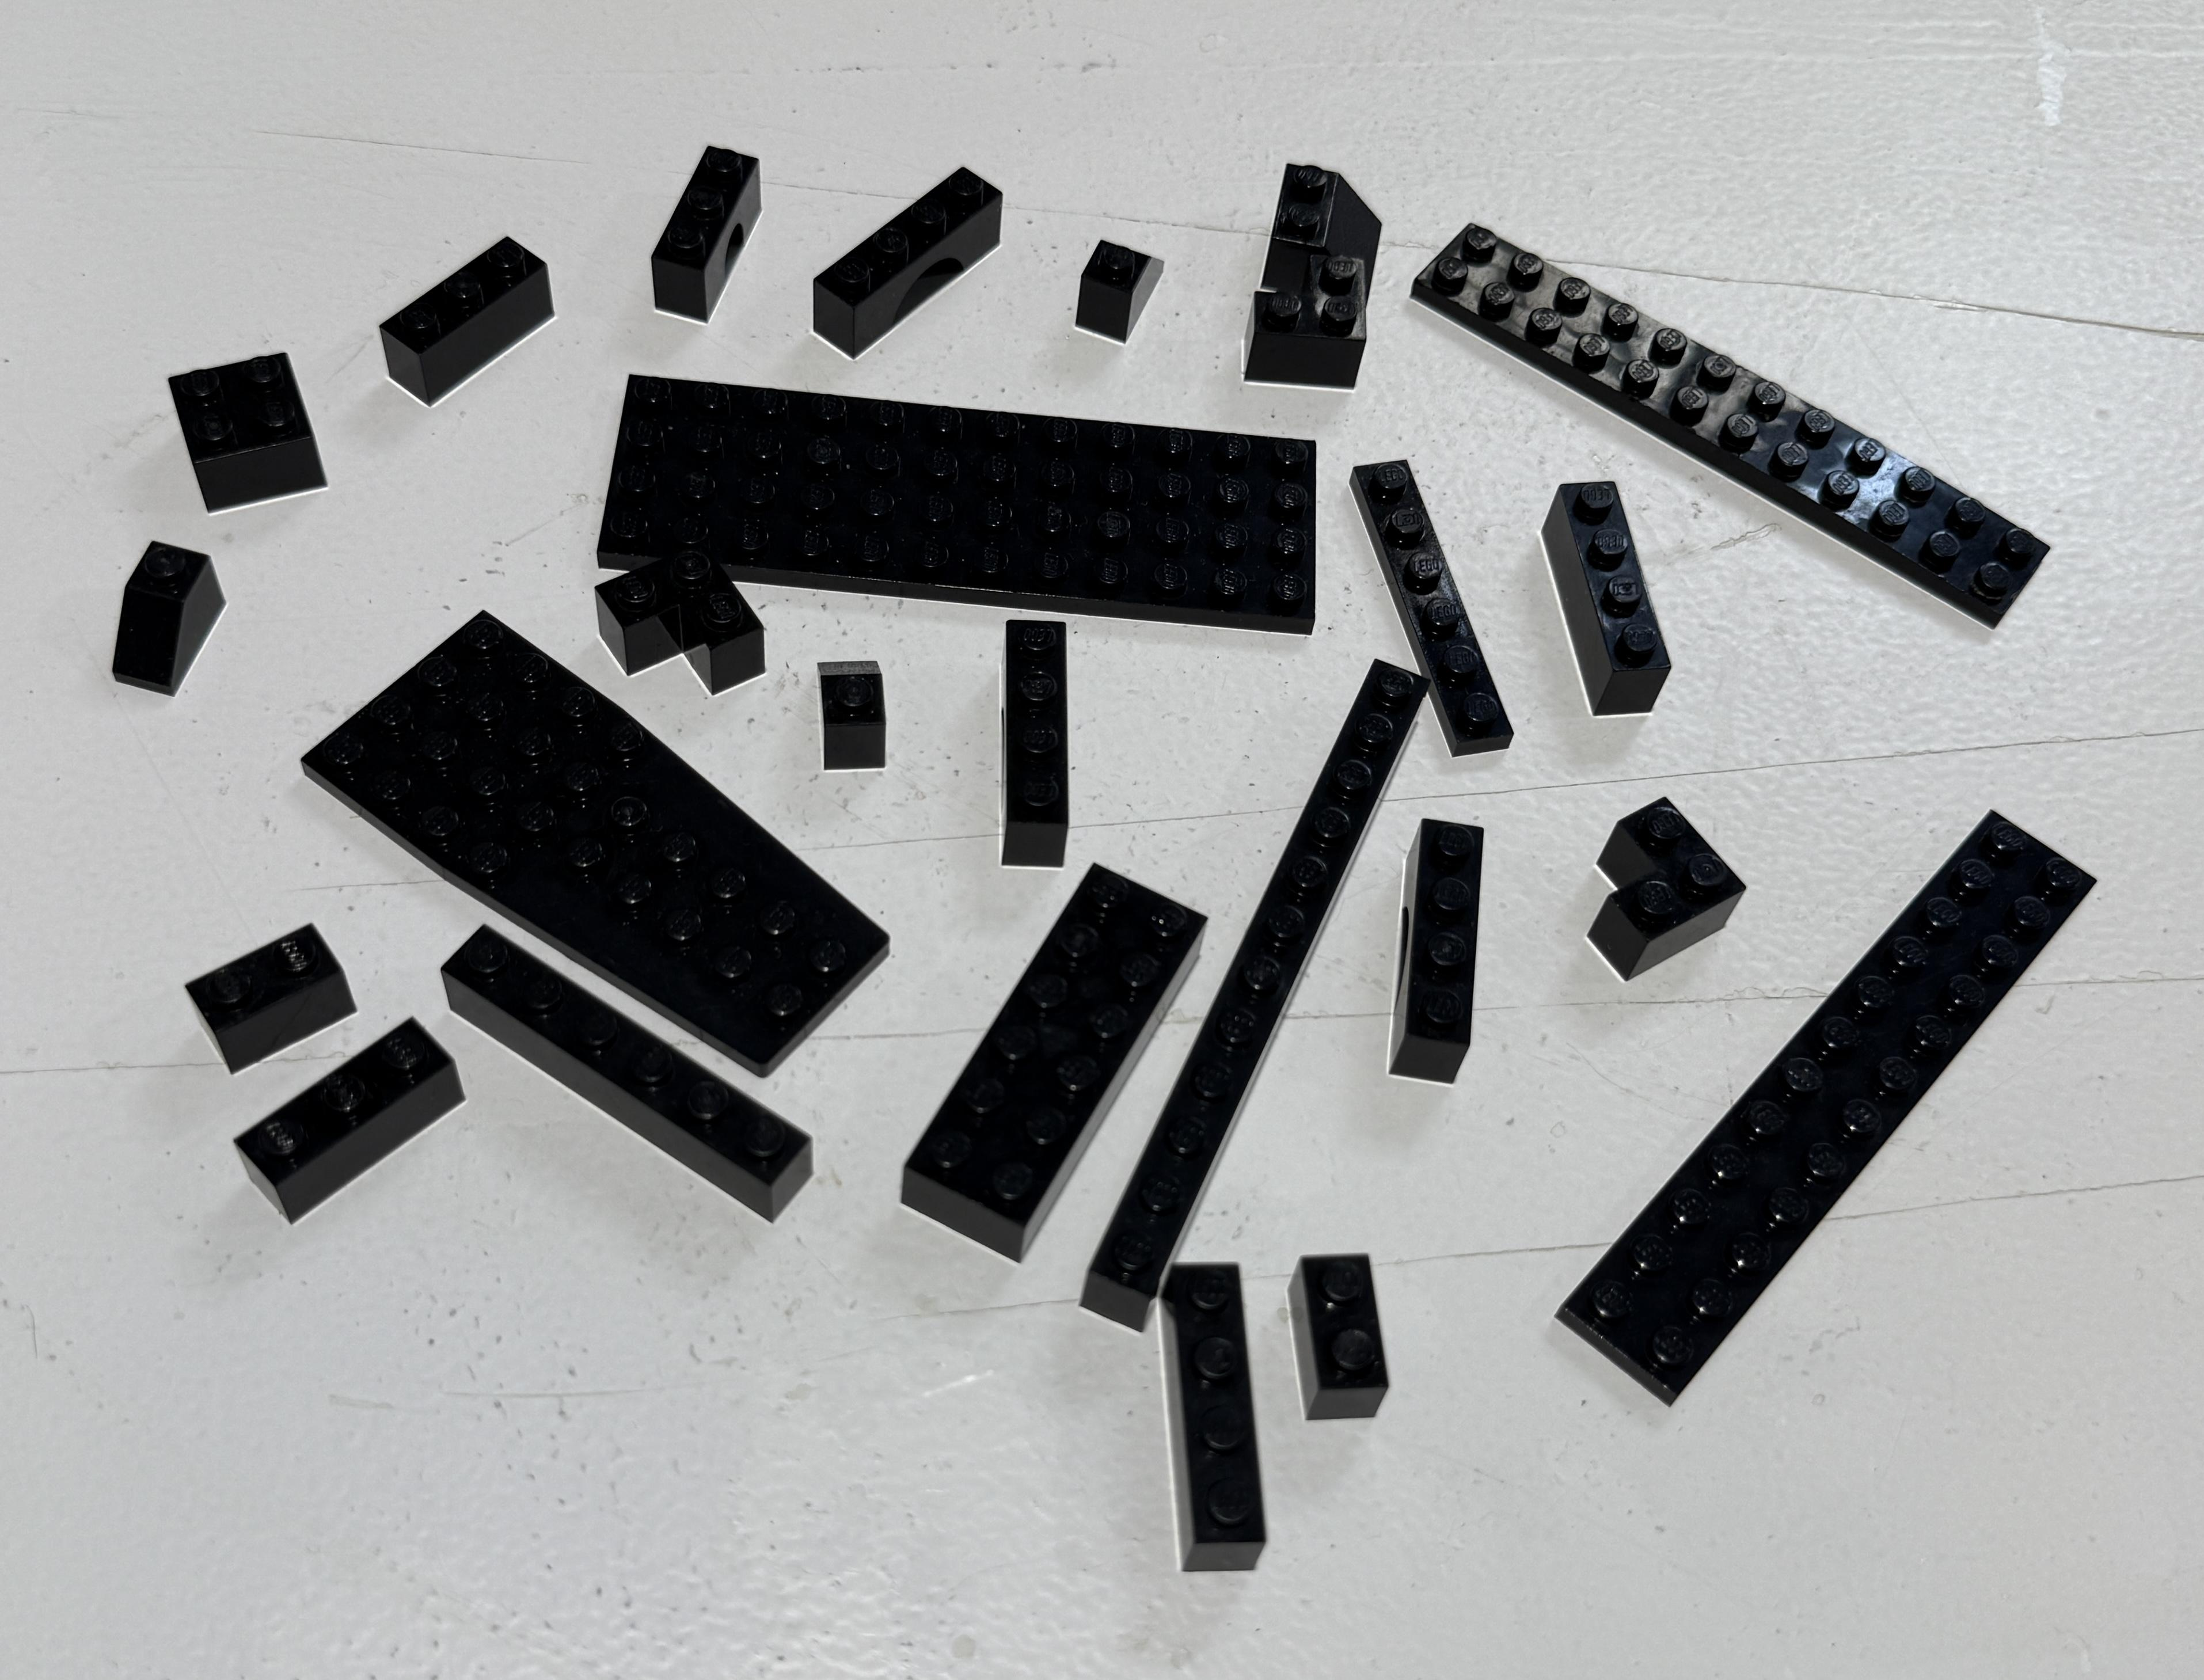brick_1x2: (1267, 1221, 1436, 1438)
brick_1x3: (169, 1001, 533, 1272)
